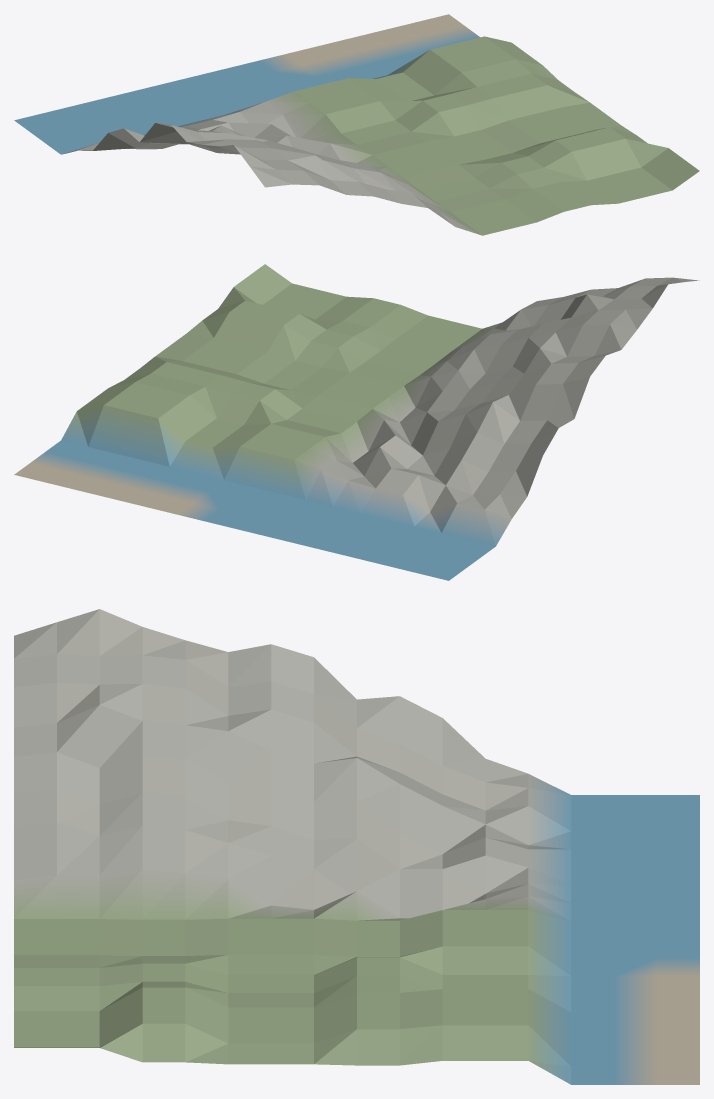
3 renders of one model, top to bottom at view 1: azimuth 30°, elevation 25°; view 2: azimuth 150°, elevation 25°; view 3: azimuth 270°, elevation 25°, orthographic. The views are drawn at different scales.
Size of the model in its own units: 32 by 9.58 by 32.
